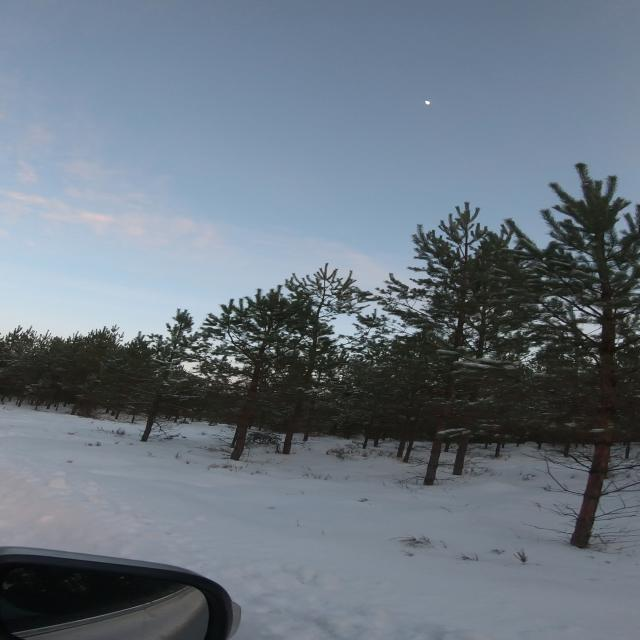trees: (496, 163, 640, 548), (380, 202, 510, 432), (570, 439, 610, 548), (141, 392, 162, 442), (396, 415, 415, 462), (303, 402, 315, 442)
